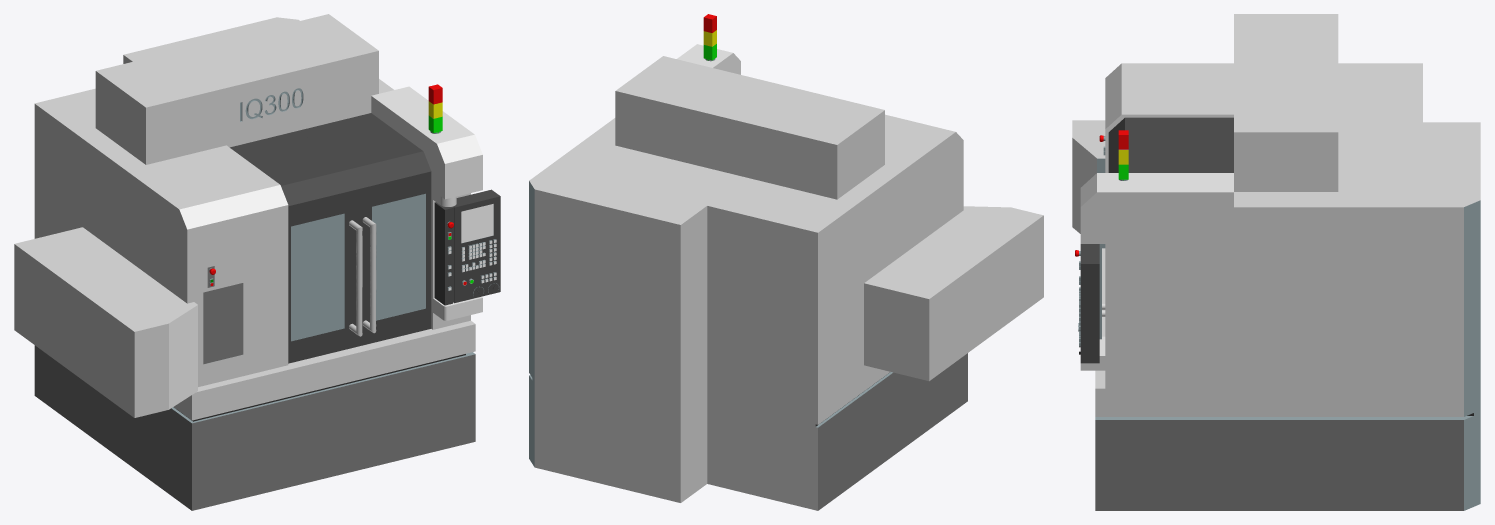
The picture shows the model from 3 angles, left to right: view 1: azimuth 30°, elevation 25°; view 2: azimuth 150°, elevation 25°; view 3: azimuth 270°, elevation 25°; orthographic projection. The views are drawn at different scales.
Parts seen in each view (by area): view 1: XuepCBEC20A5ene7; view 2: XuepCBEC20A5ene7; view 3: XuepCBEC20A5ene7.
Part boxes in pixels (x1,y1,x2,y2): XuepCBEC20A5ene7: [14, 14, 500, 510]; XuepCBEC20A5ene7: [529, 14, 1043, 510]; XuepCBEC20A5ene7: [1072, 14, 1480, 510].
Bounding box in the file's own units: 2.7 × 2.45 × 2.48.
